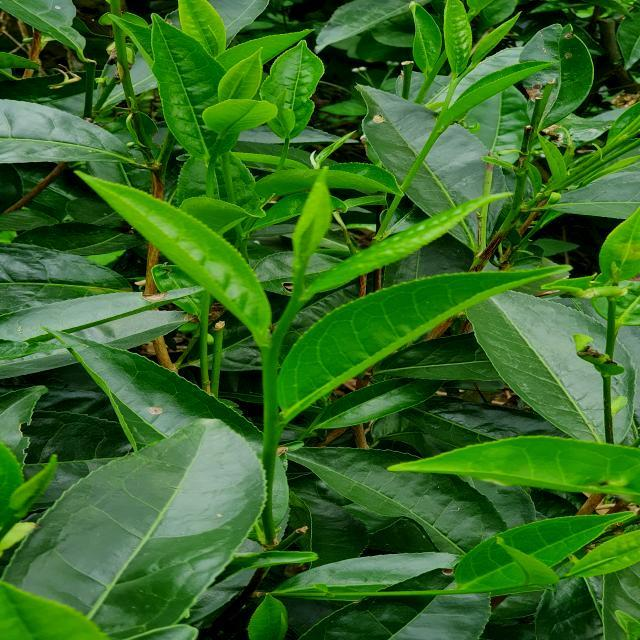Stem: (284, 297, 304, 318), (448, 80, 460, 90)
